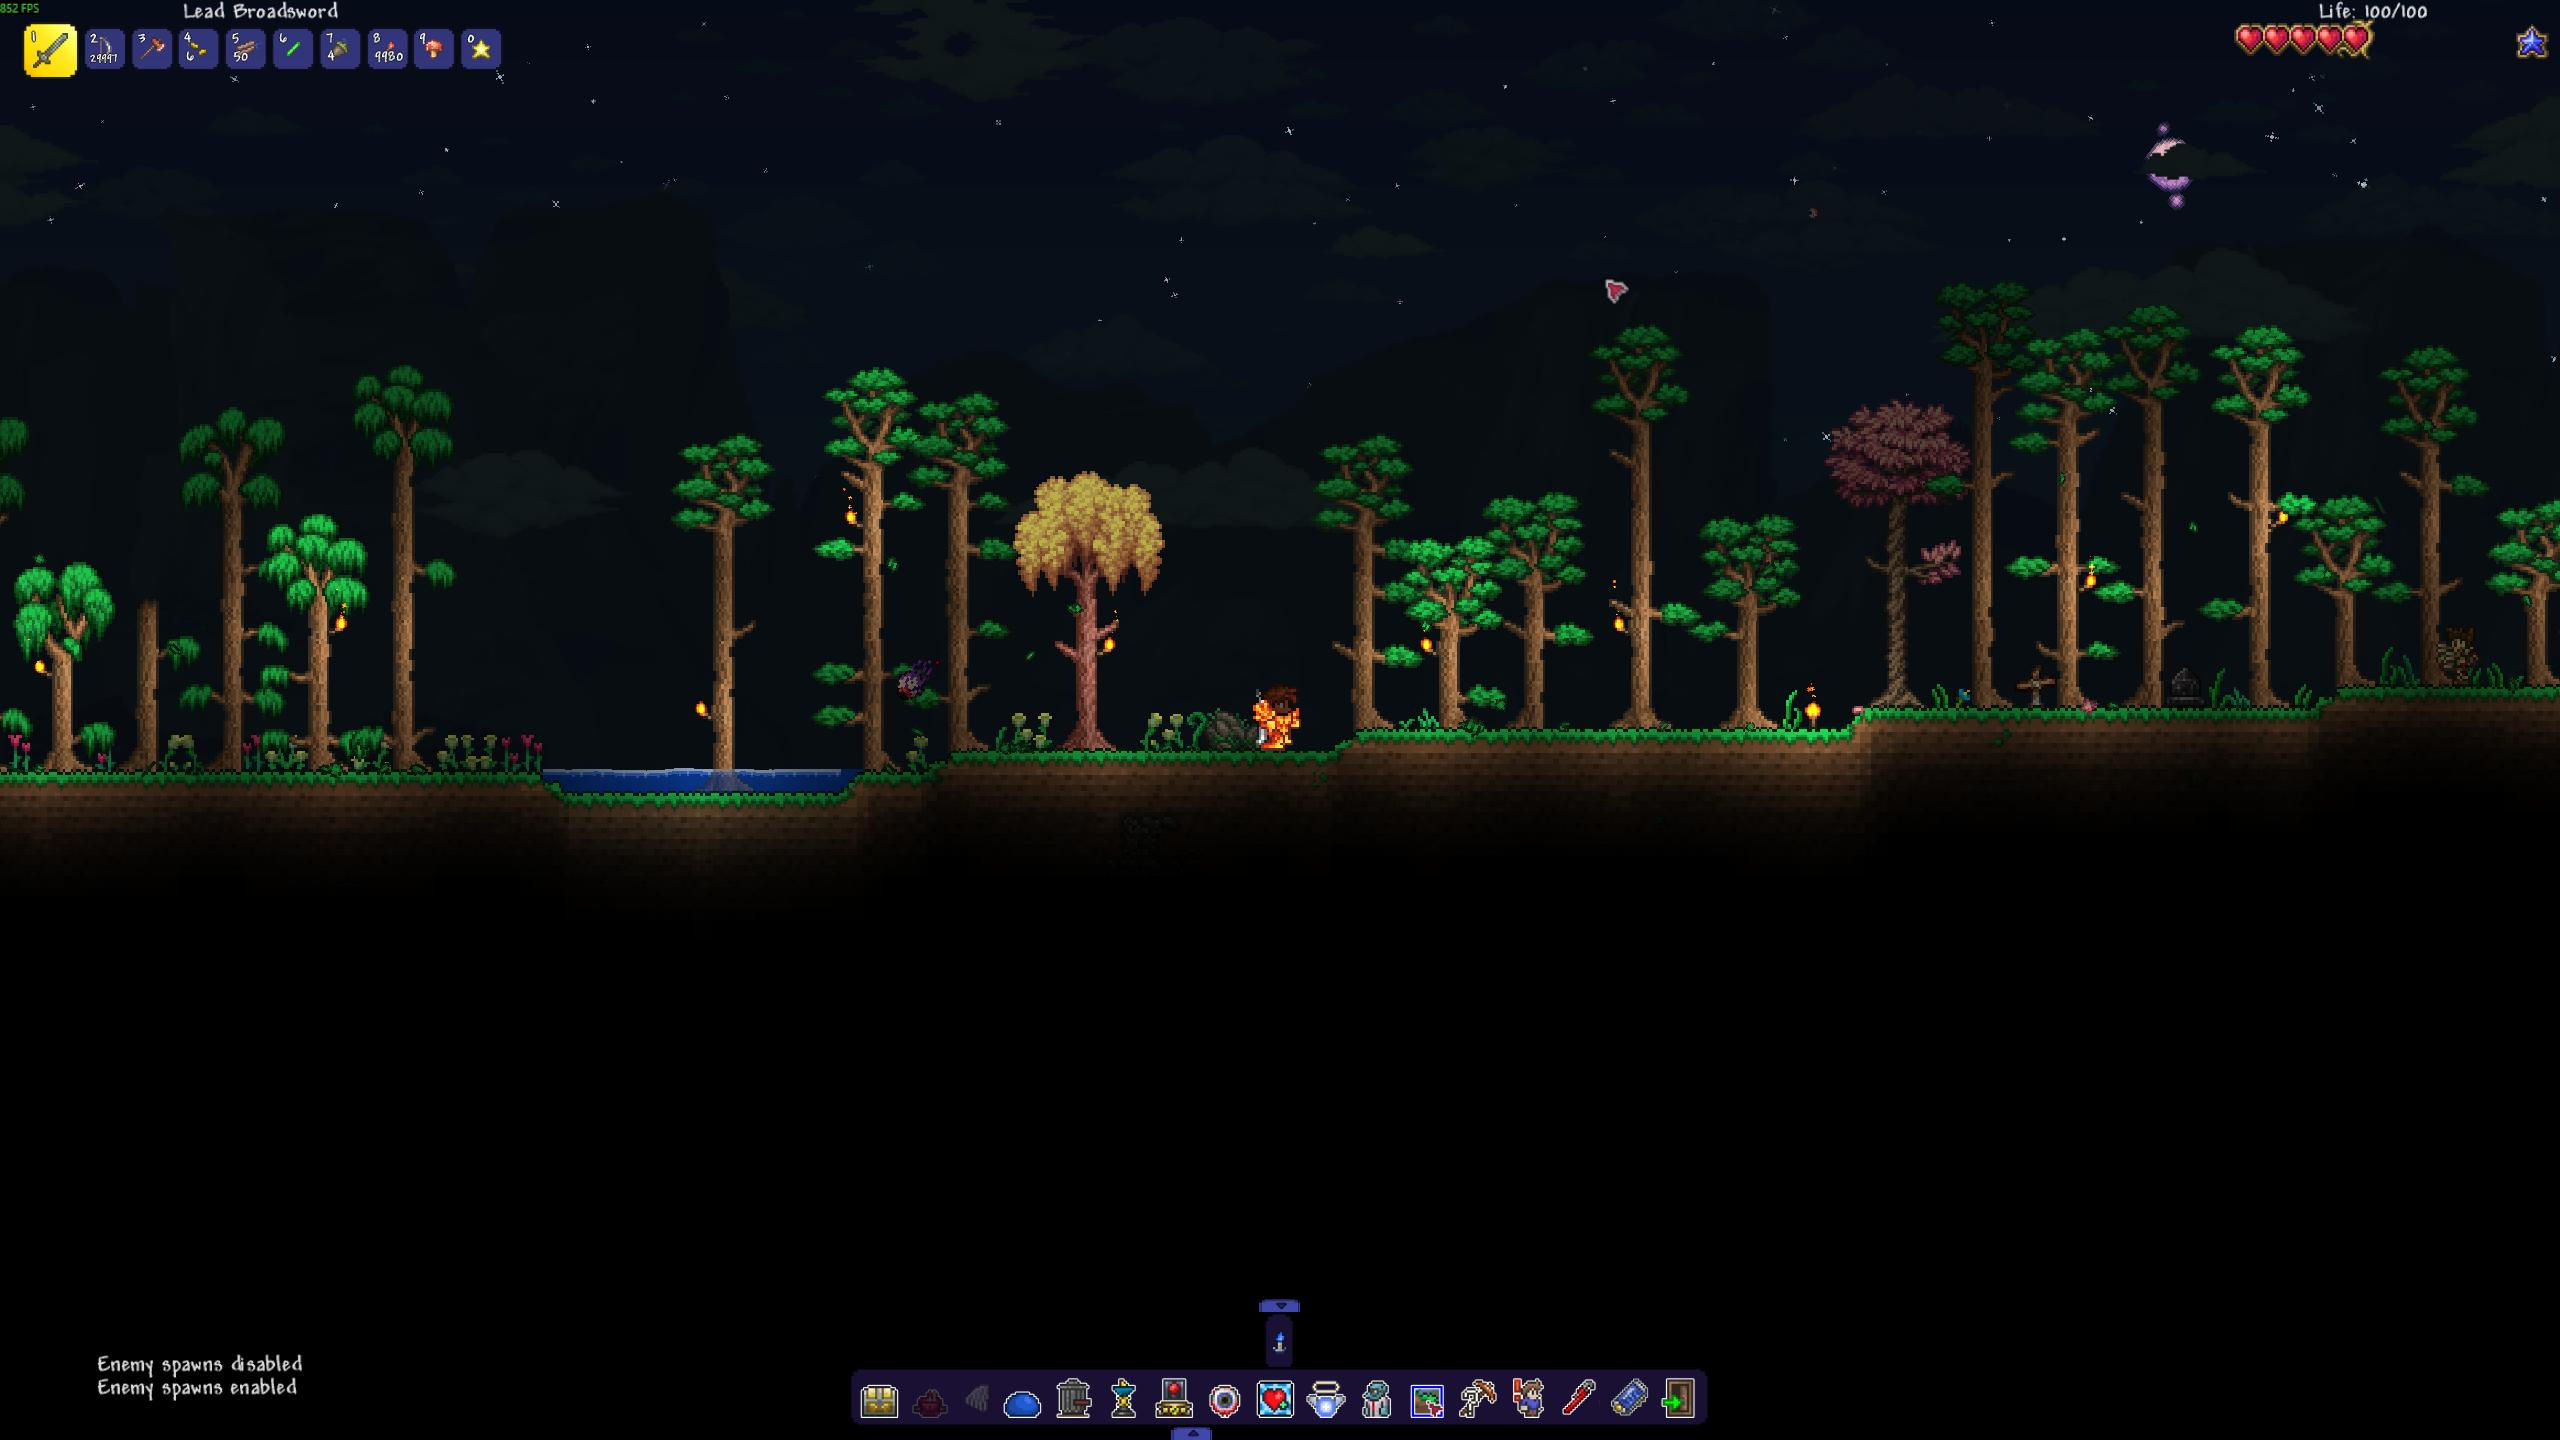Demon Eye: (886, 652, 948, 705)
